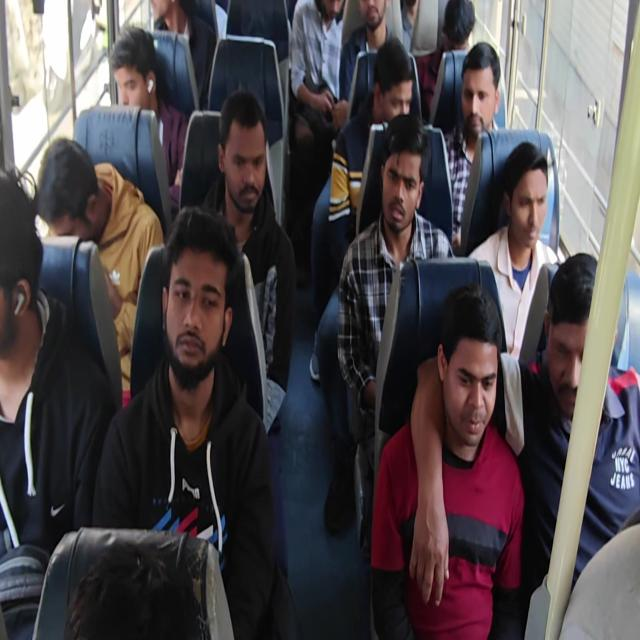person: (1, 1, 638, 638), (91, 205, 295, 638), (410, 251, 639, 636), (370, 282, 525, 638), (0, 165, 113, 637), (336, 112, 456, 544), (309, 37, 414, 382), (34, 136, 164, 408), (200, 89, 296, 433), (468, 141, 562, 368), (109, 25, 188, 210), (442, 41, 502, 250), (558, 512, 639, 640), (290, 0, 348, 149), (417, 0, 476, 121), (338, 1, 402, 111), (149, 0, 215, 106)
